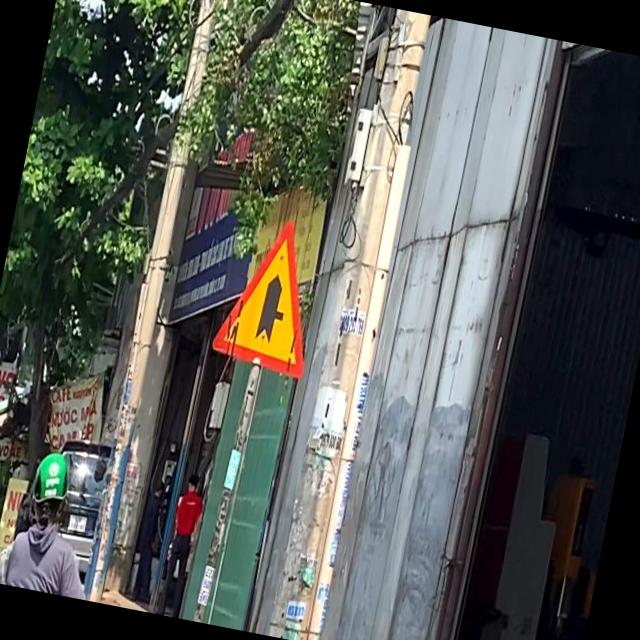W-207b: (205, 206, 333, 382)
